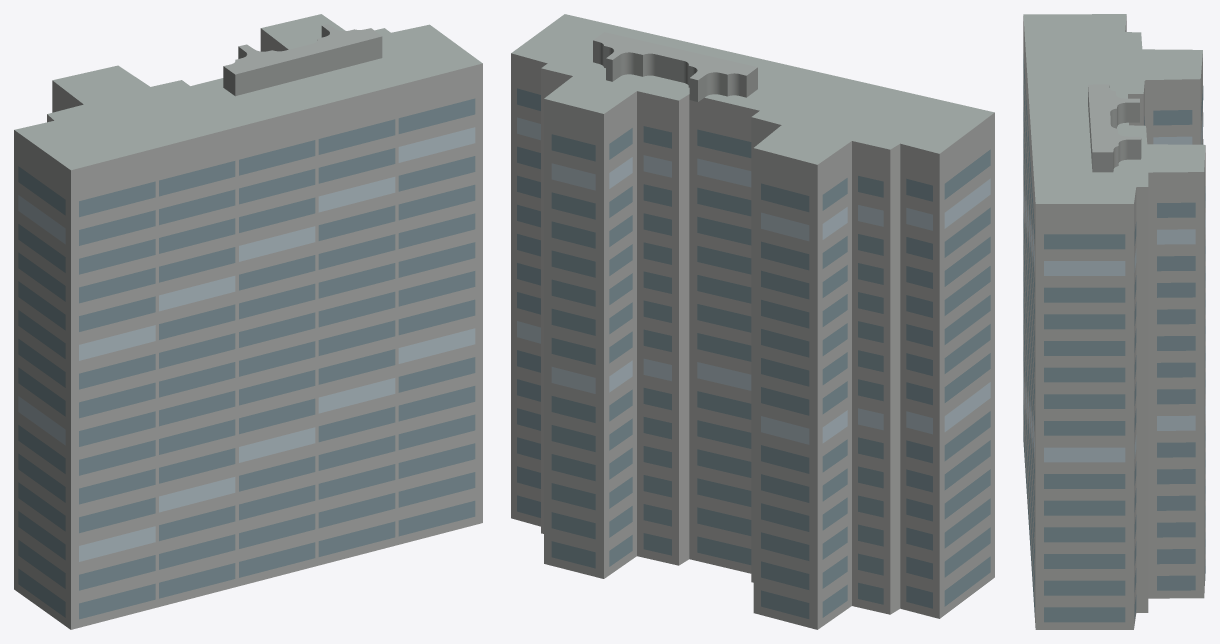
File: fallback-godeok-central-ipark-505.glb
3 views of the same model, side by side, from view 1: azimuth 30°, elevation 25°; view 2: azimuth 150°, elevation 25°; view 3: azimuth 270°, elevation 25° (orthographic). The views are drawn at different scales.
Parts seen in each view (by area): view 1: fallback-godeok-central-ipark-505; view 2: fallback-godeok-central-ipark-505; view 3: fallback-godeok-central-ipark-505.
Boxes of the visible parts, left/top/right/bottom form: fallback-godeok-central-ipark-505: left=14, top=14, right=482, bottom=629; fallback-godeok-central-ipark-505: left=511, top=14, right=994, bottom=629; fallback-godeok-central-ipark-505: left=1023, top=14, right=1205, bottom=629.
Size of the model in its own units: 43.87 by 48 by 17.81.
